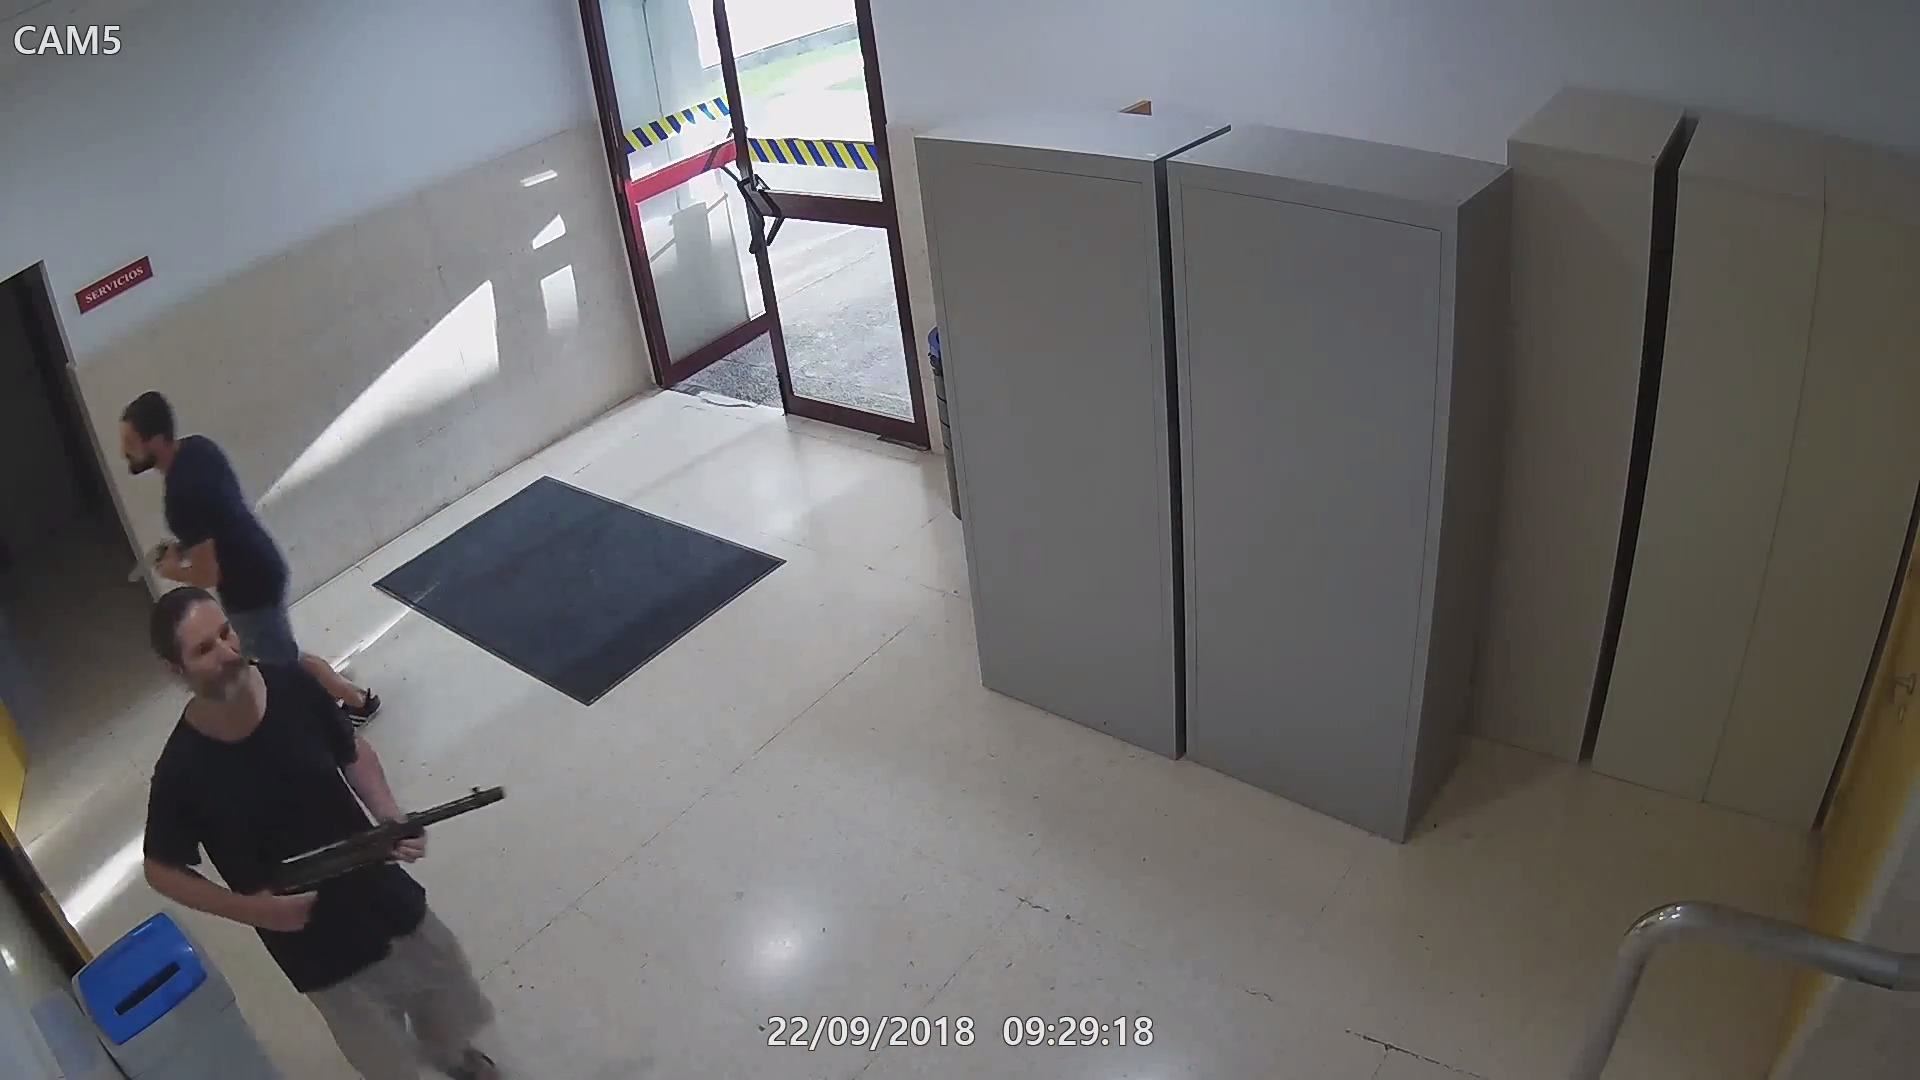Handgun: (119, 538, 189, 589)
Short_rifle: (266, 778, 510, 947)
